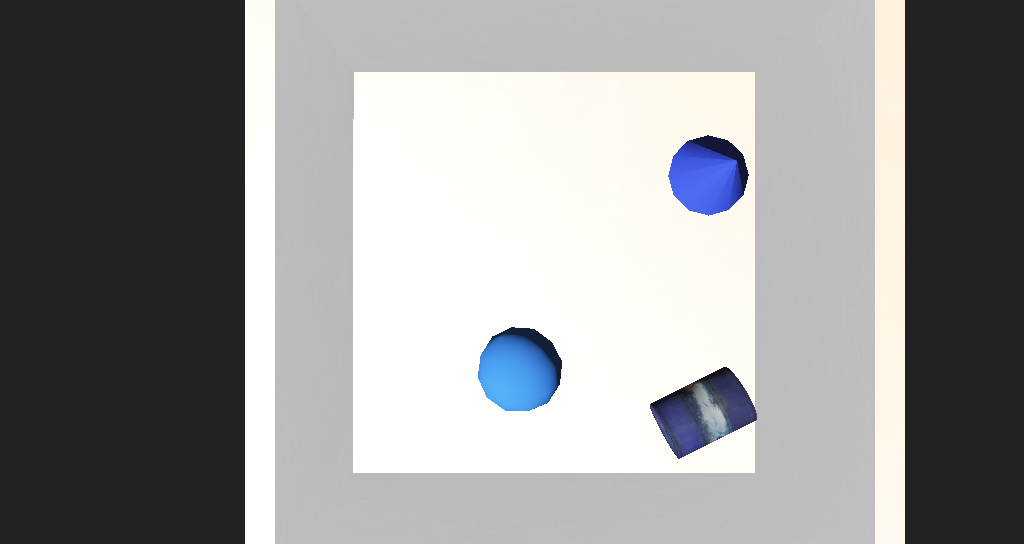cone: (576, 317, 664, 370)
cylinder: (596, 193, 670, 236)
sphere: (445, 298, 512, 341)
